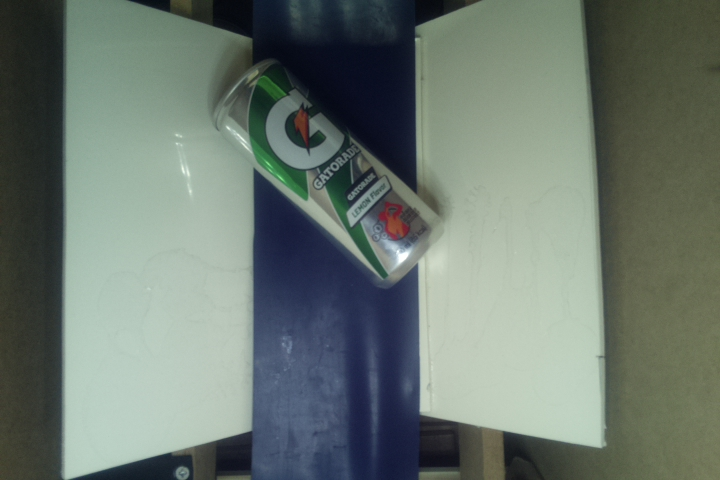can: (211, 57, 447, 290)
